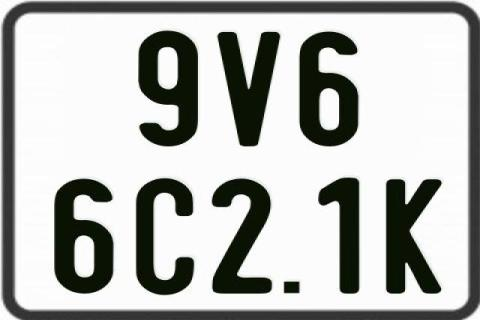0: (298, 32, 362, 150), (210, 178, 274, 296), (137, 31, 198, 149), (52, 178, 111, 296), (317, 177, 359, 295)
C: (133, 178, 197, 296)
K: (383, 177, 442, 293)
V: (215, 31, 278, 149)
